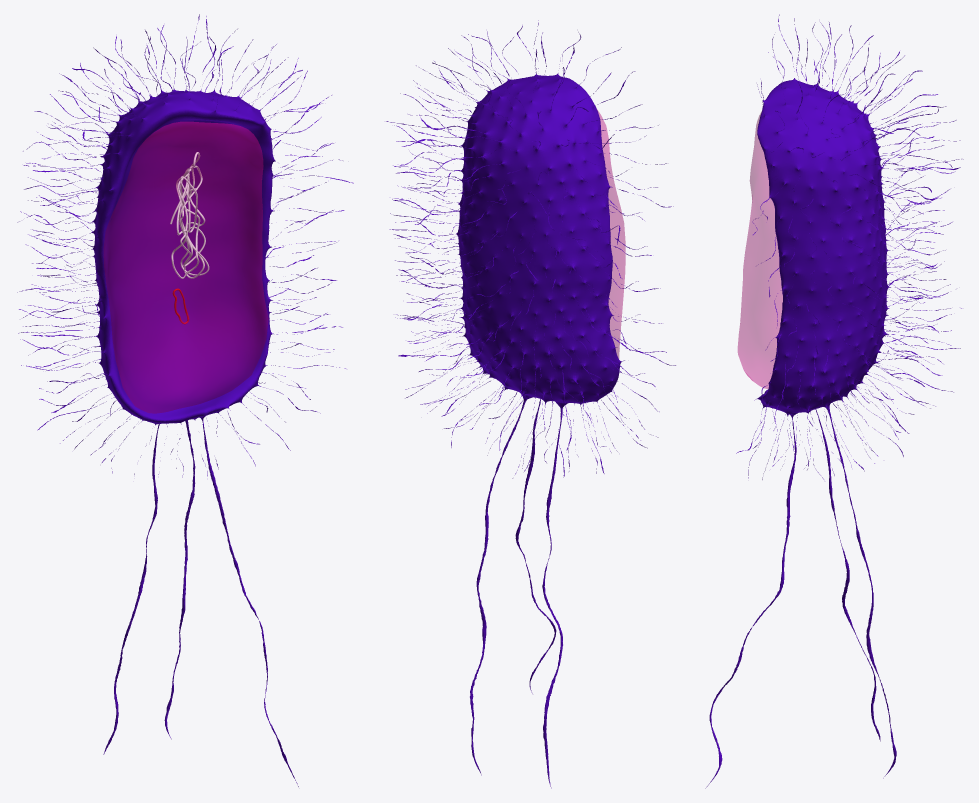
File: optimized_bakteri.glb
3 renders of one model, left to right at view 1: azimuth 30°, elevation 25°; view 2: azimuth 150°, elevation 25°; view 3: azimuth 270°, elevation 25°, orthographic. The views are drawn at different scales.
Parts seen in each view (by area): view 1: bakteri_dis, Bakteri_sitolazma, bak_kromozom; view 2: bakteri_dis, Bakteri_sitolazma; view 3: bakteri_dis, Bakteri_sitolazma.
Part boxes in pixels (x1,y1,x2,y2): bakteri_dis: (17,14,353,786); Bakteri_sitolazma: (104,122,268,413); bak_kromozom: (170,152,209,278); bakteri_dis: (386,20,675,788); Bakteri_sitolazma: (597,109,625,358); bakteri_dis: (705,14,963,788); Bakteri_sitolazma: (738,112,782,388).
Size of the model in its own units: 1.26 by 3 by 0.9687.
